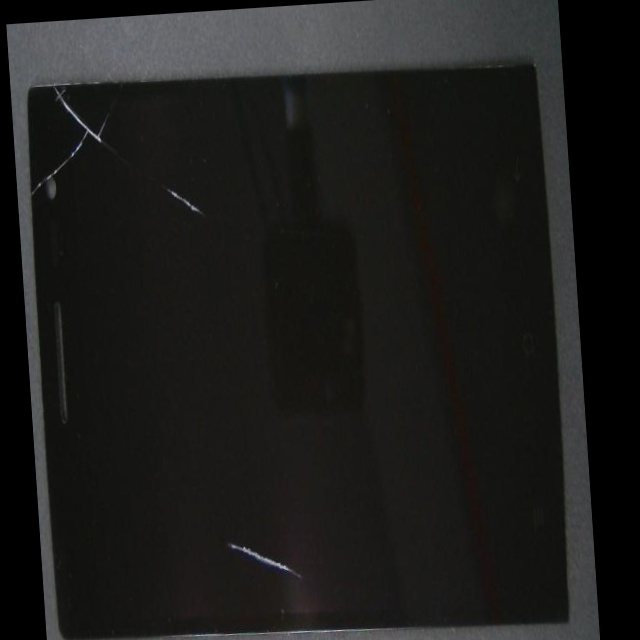scratch: (196, 301, 403, 640), (127, 107, 286, 271), (39, 22, 58, 169)
